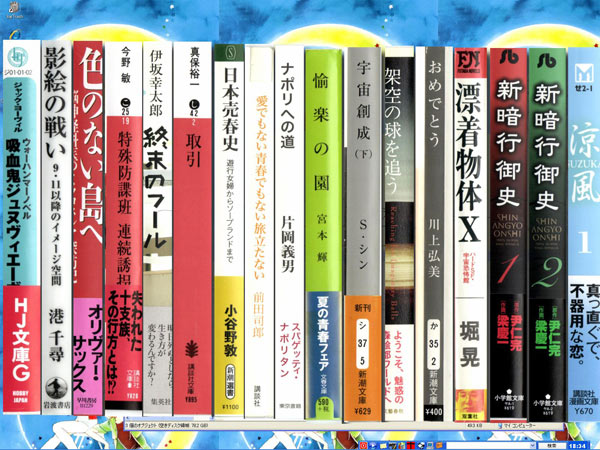book: (300, 46, 346, 423), (170, 38, 215, 418), (340, 44, 385, 424), (413, 43, 457, 422), (526, 44, 570, 423), (487, 46, 531, 423), (1, 38, 43, 419), (103, 38, 144, 420), (70, 38, 110, 421), (451, 45, 490, 425), (379, 45, 417, 423), (39, 37, 75, 417), (242, 42, 278, 422), (564, 44, 600, 424), (211, 39, 246, 420), (272, 41, 307, 422), (141, 39, 176, 418)
